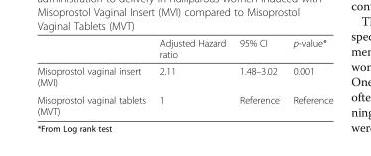table: (36, 36, 332, 116)
table column: (36, 36, 151, 116), (151, 36, 232, 116), (232, 36, 285, 116), (285, 36, 332, 116)
table column header: (36, 36, 332, 62)
table row: (36, 62, 332, 90), (36, 36, 332, 62), (36, 90, 332, 116)
